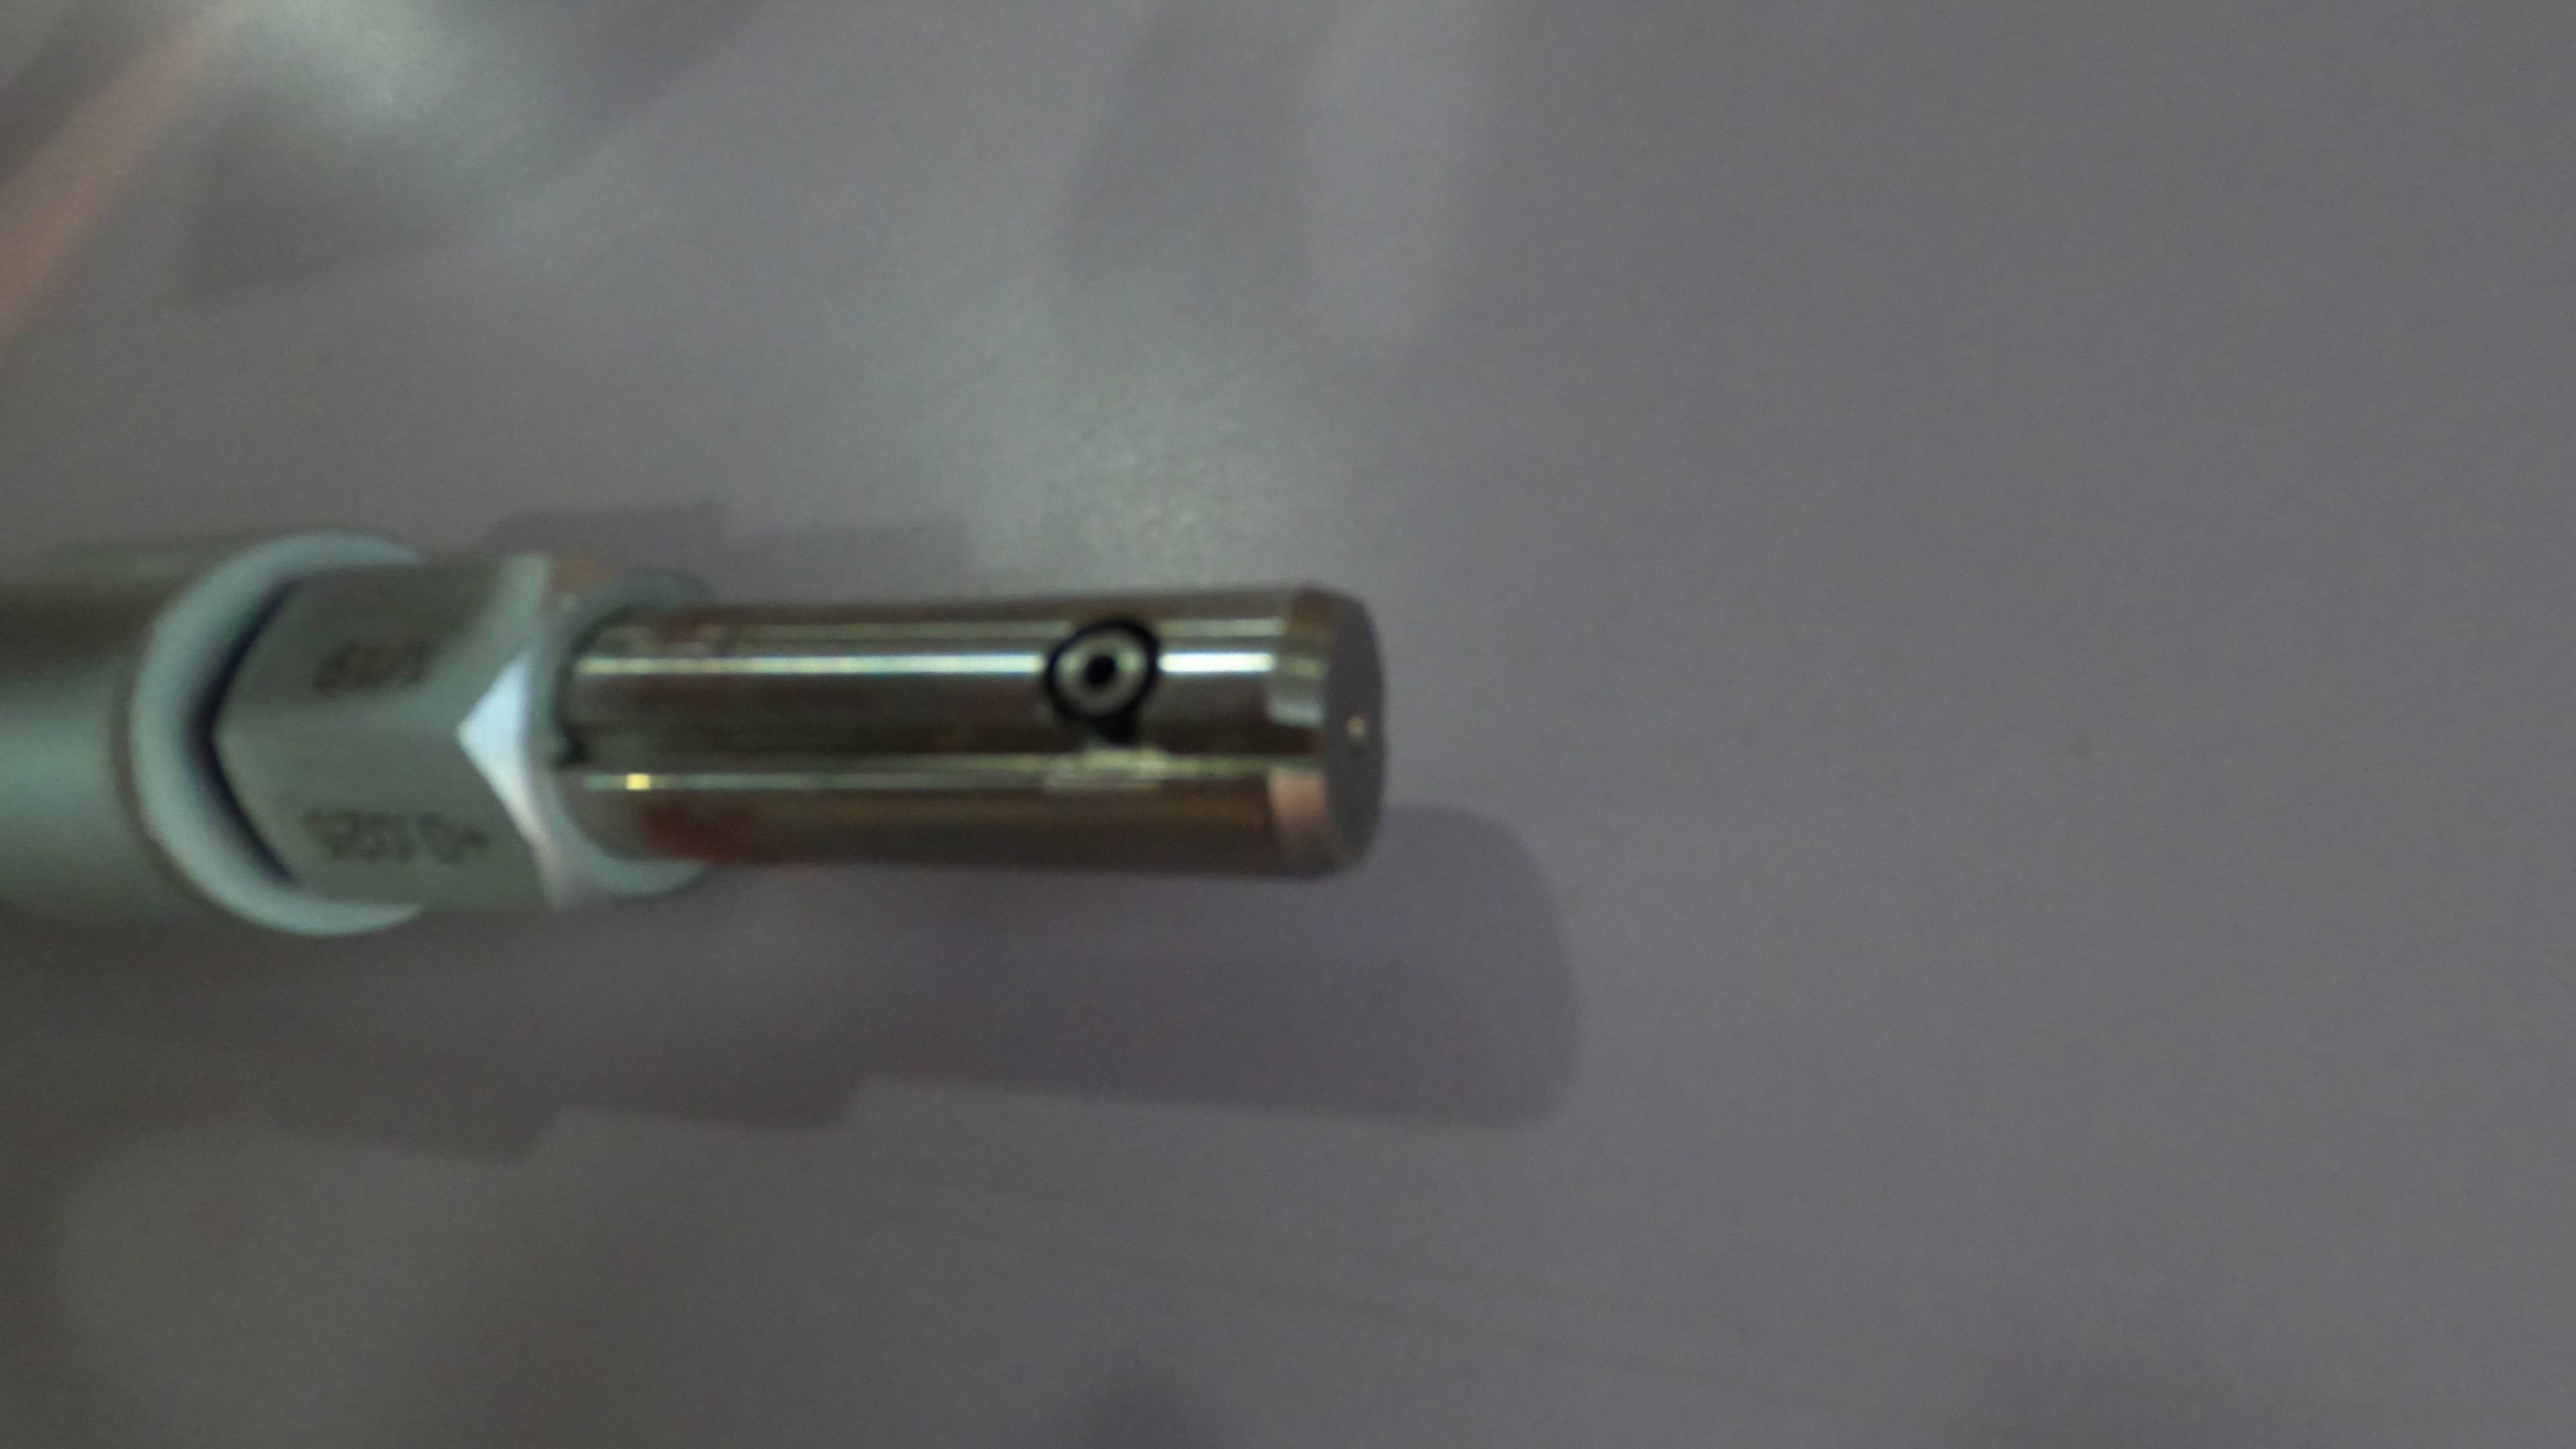air_gauge: (9, 531, 1389, 948)
